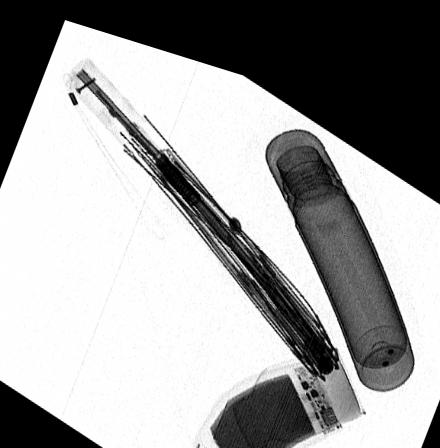Powerbank: (192, 327, 366, 448)
